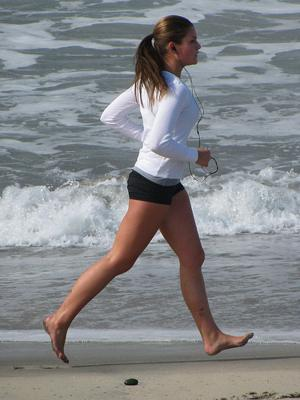person: (43, 18, 256, 368)
